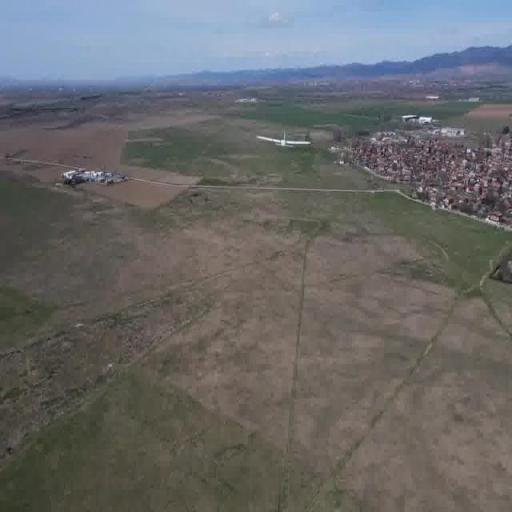uav: (256, 129, 314, 160)
